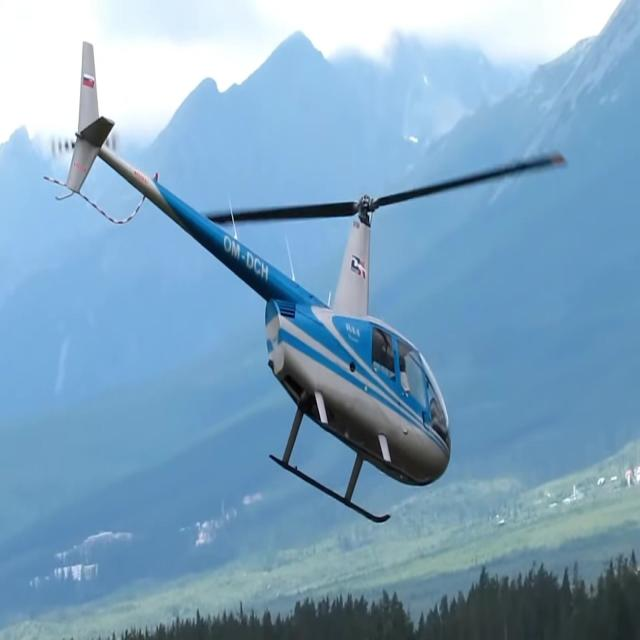CIV_HELO: (61, 39, 452, 527)
